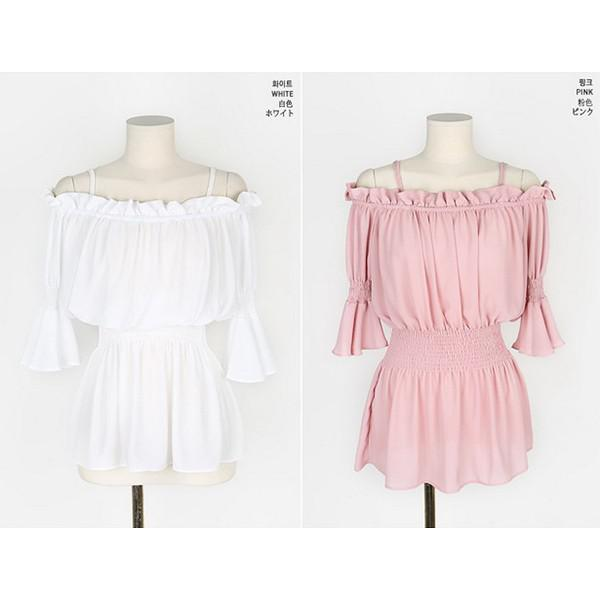Dresses: (25, 166, 275, 477), (340, 159, 563, 494)
